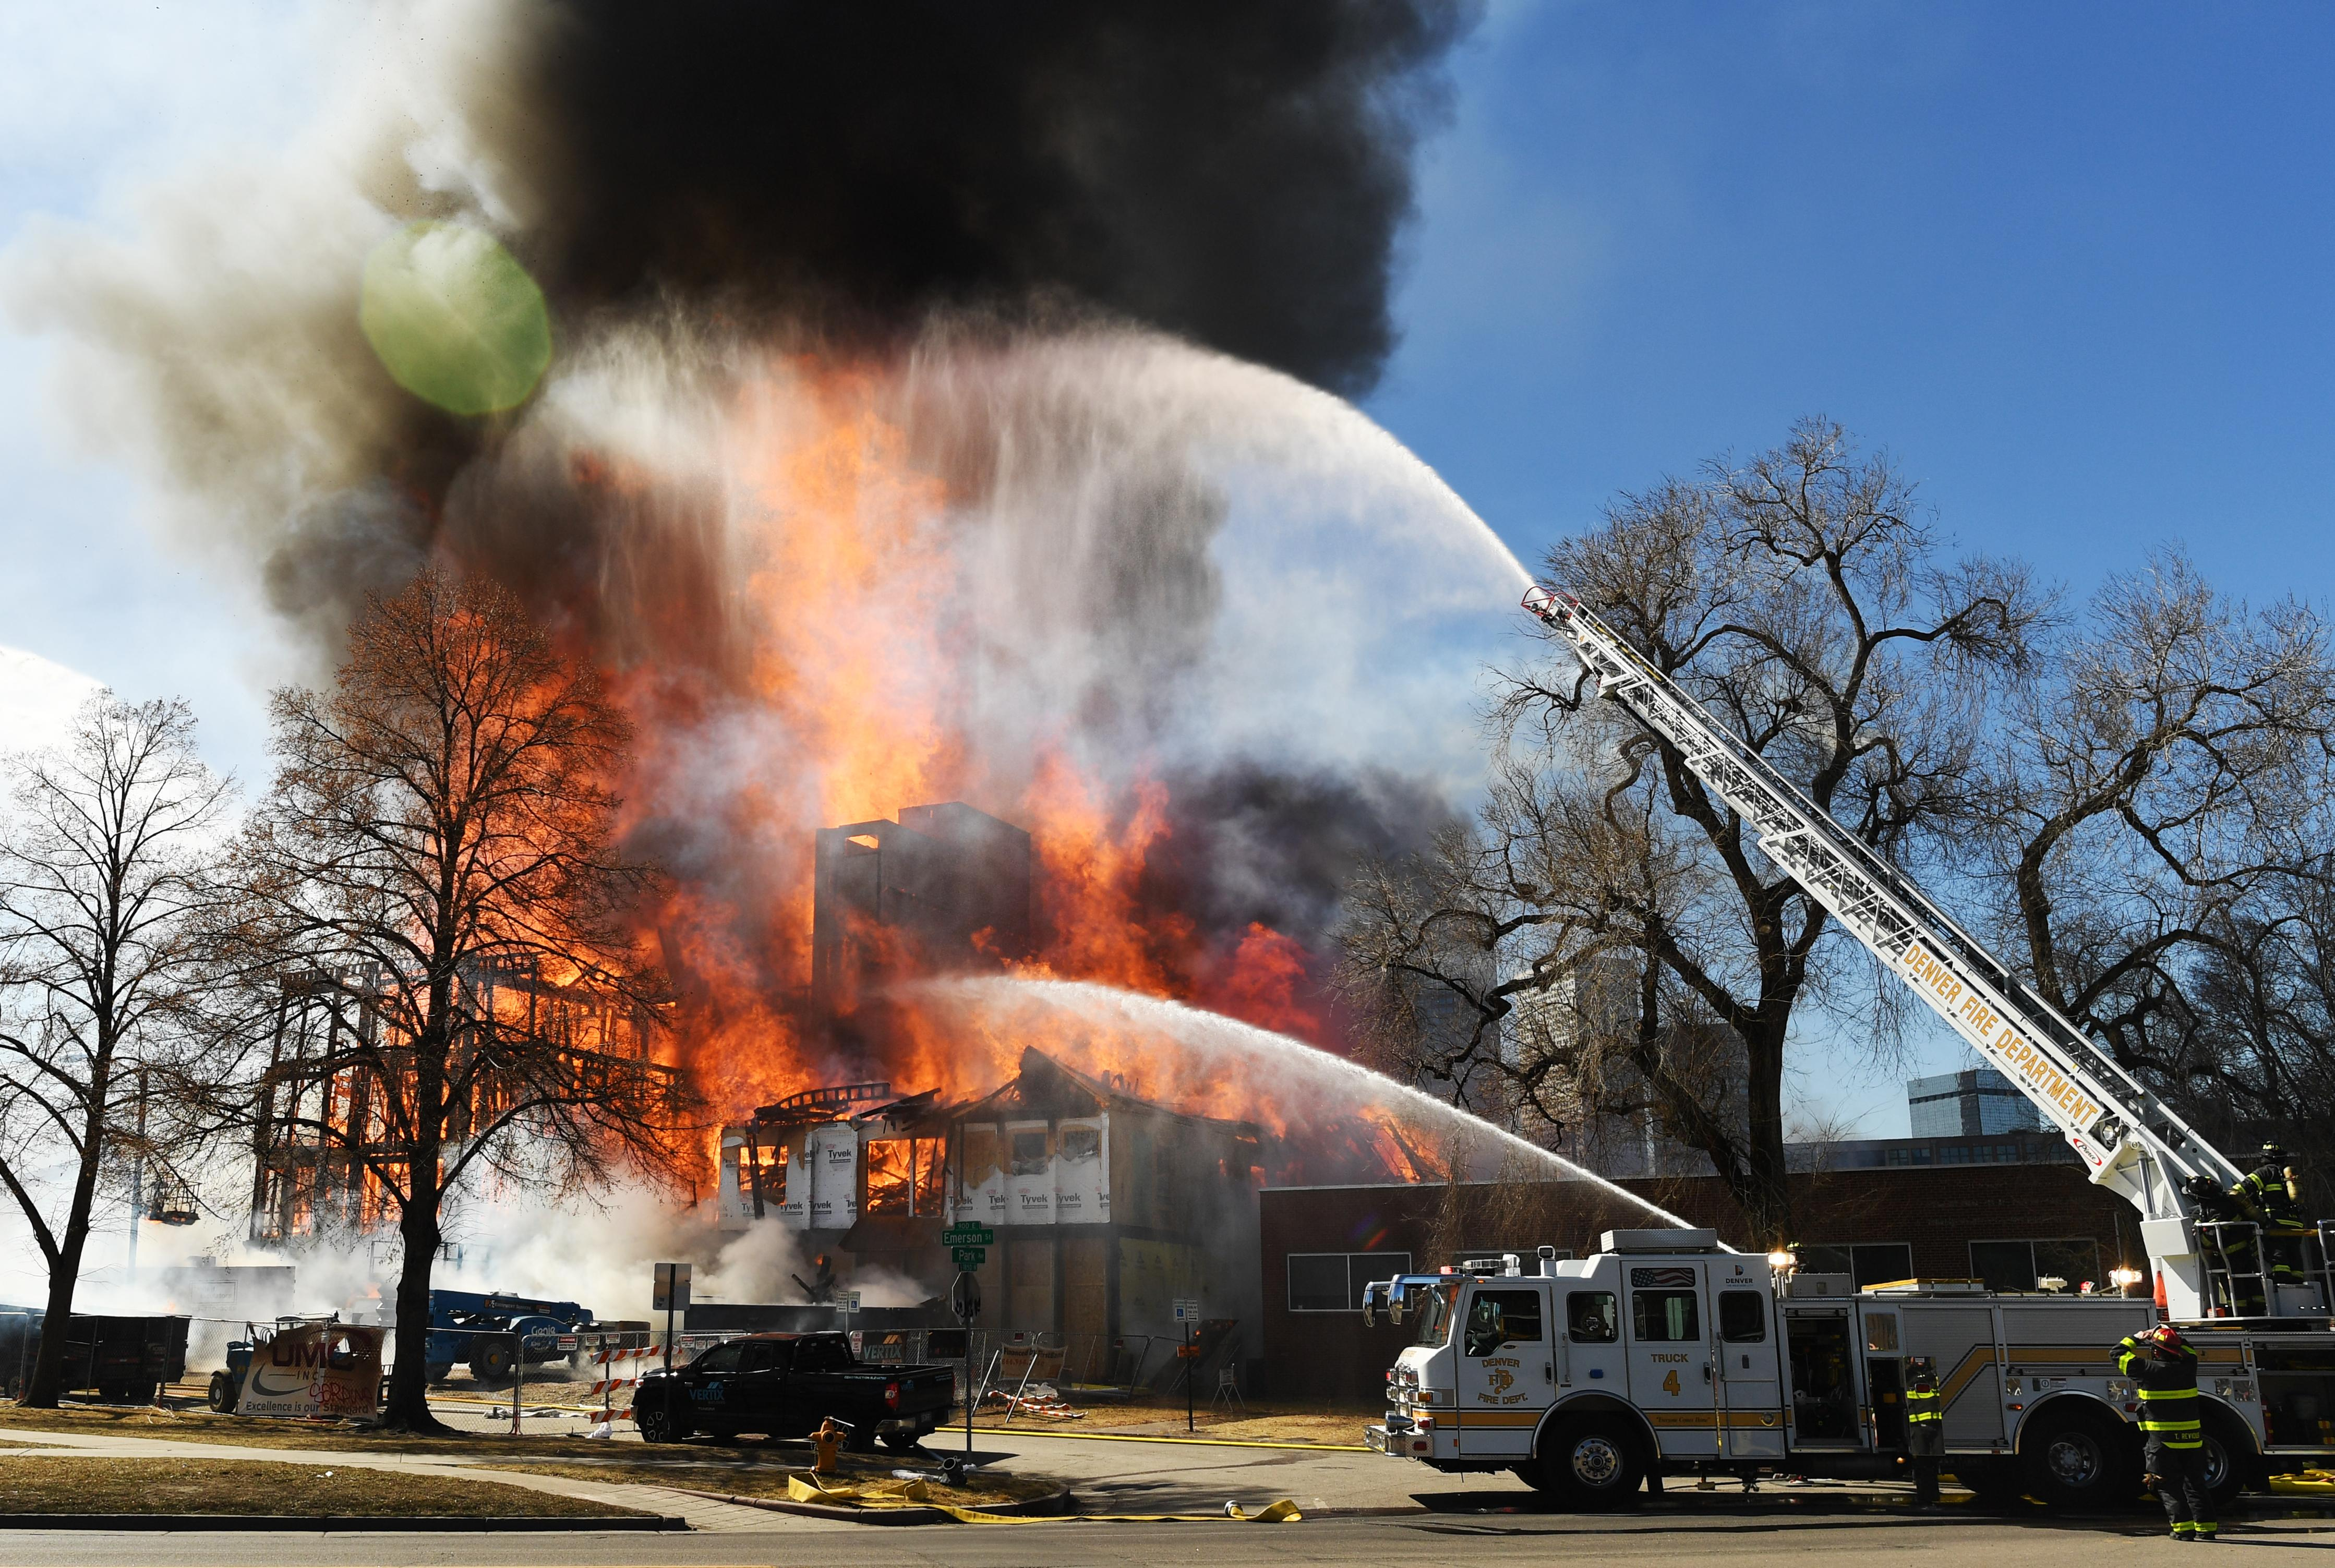Fire: (305, 508, 1474, 1195)
